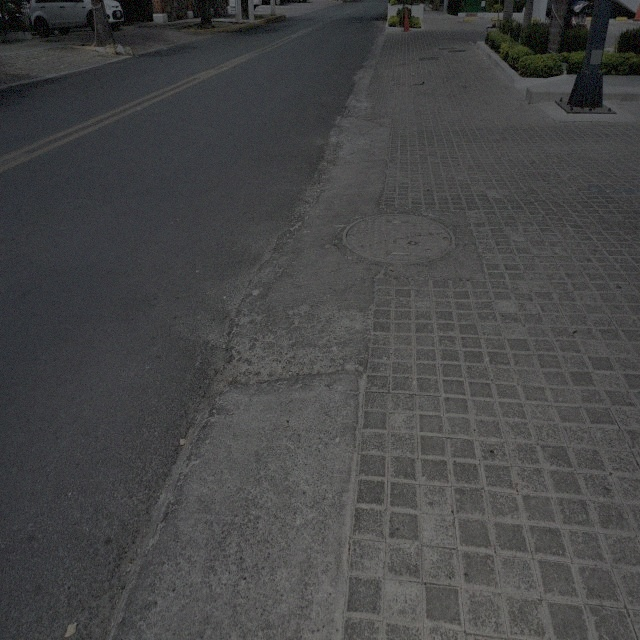pothole: (305, 141, 339, 205), (205, 356, 244, 399)
